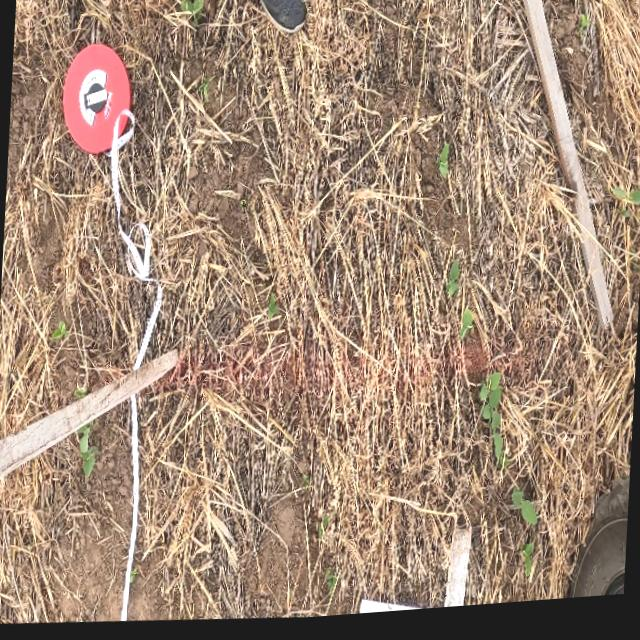soy_plant: (479, 379, 506, 472), (510, 498, 538, 534), (78, 427, 96, 479), (459, 316, 475, 349), (445, 267, 460, 302), (436, 150, 450, 185), (611, 199, 640, 215), (521, 550, 534, 585), (181, 2, 204, 21), (265, 298, 281, 322), (51, 323, 69, 342), (199, 82, 211, 102), (326, 577, 338, 596), (578, 24, 590, 40), (318, 520, 329, 534), (74, 390, 86, 398)
